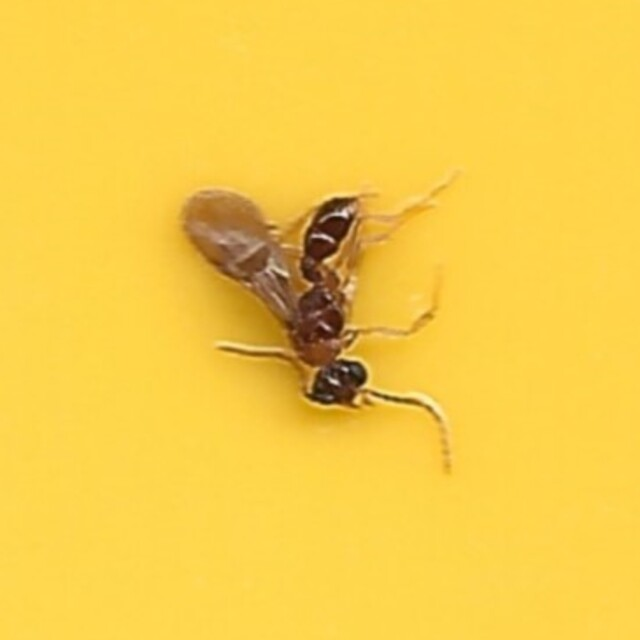Hymenoptera: (175, 168, 465, 472)
